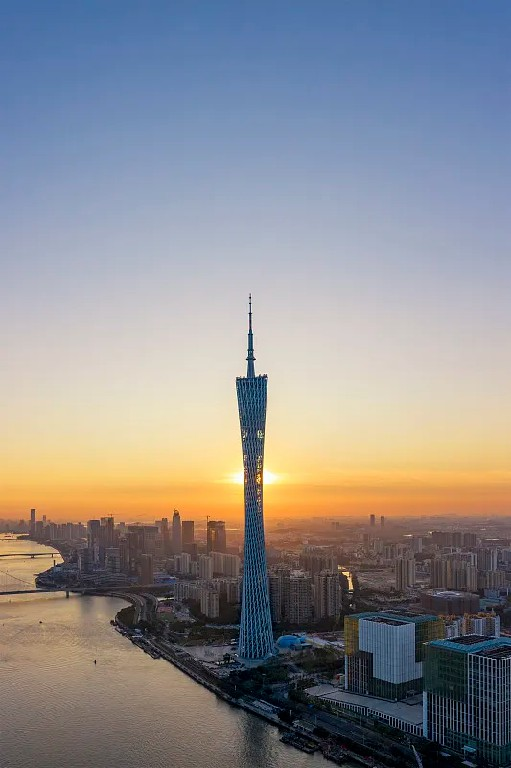Canton: (232, 285, 280, 660)
